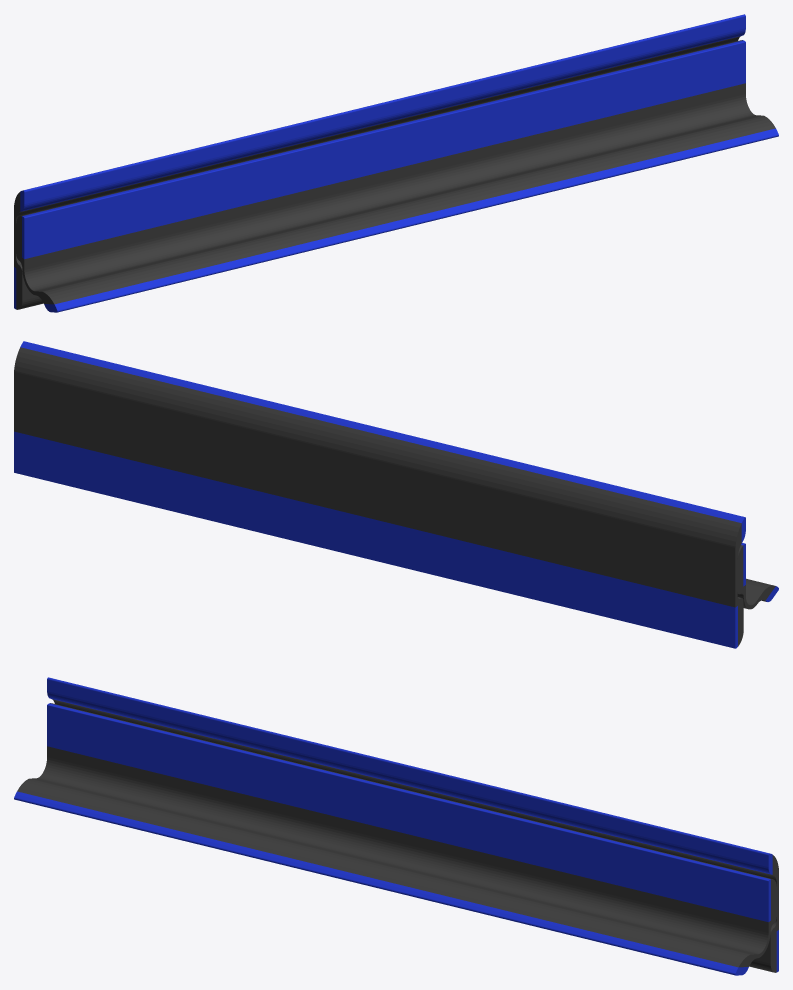
3 renders of one model, top to bottom at view 1: azimuth 30°, elevation 25°; view 2: azimuth 150°, elevation 25°; view 3: azimuth 330°, elevation 25°, orthographic.
Visible parts, largest first — view 1: 3MFMeshParent_337, 3MFMeshParent_336, 3MFMeshParent_338, 3MFMeshParent_341, 3MFMeshParent_339; view 2: 3MFMeshParent_339, 3MFMeshParent_340, 3MFMeshParent_338, 3MFMeshParent_337; view 3: 3MFMeshParent_337, 3MFMeshParent_336, 3MFMeshParent_338, 3MFMeshParent_341, 3MFMeshParent_339.
Part boxes in pixels (x1,y1,x2,y2): 3MFMeshParent_337: [16, 40, 775, 304]; 3MFMeshParent_336: [22, 40, 745, 259]; 3MFMeshParent_338: [20, 14, 745, 211]; 3MFMeshParent_341: [44, 128, 778, 312]; 3MFMeshParent_339: [14, 36, 740, 309]; 3MFMeshParent_339: [14, 347, 743, 646]; 3MFMeshParent_340: [14, 431, 737, 648]; 3MFMeshParent_338: [20, 341, 745, 542]; 3MFMeshParent_337: [737, 545, 775, 609]; 3MFMeshParent_337: [17, 703, 776, 967]; 3MFMeshParent_336: [47, 703, 770, 922]; 3MFMeshParent_338: [47, 677, 772, 874]; 3MFMeshParent_341: [14, 791, 748, 975]; 3MFMeshParent_339: [52, 699, 778, 972].
Size of the model in its own units: 1 by 0.1652 by 0.1045.
